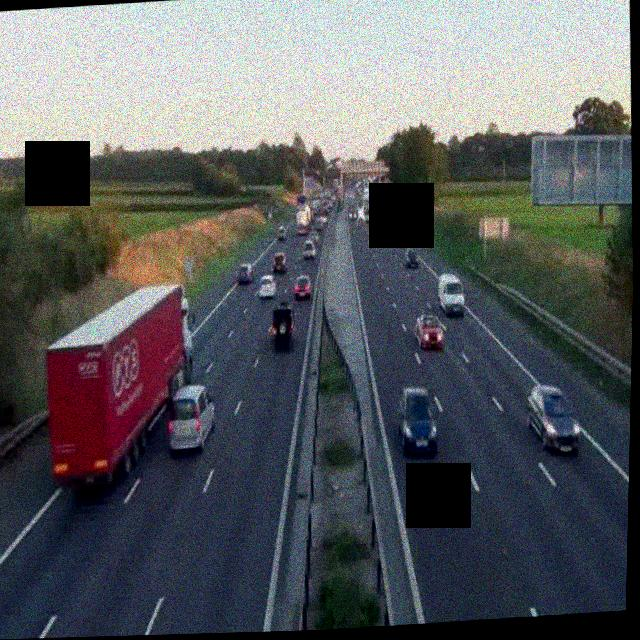car: (525, 381, 582, 455), (166, 382, 215, 452), (397, 385, 438, 455), (269, 295, 296, 350), (435, 272, 465, 315), (413, 311, 443, 351), (292, 272, 311, 299), (256, 275, 276, 298), (235, 261, 253, 286), (404, 245, 419, 268), (271, 249, 286, 272), (303, 240, 316, 259), (308, 228, 322, 244), (274, 225, 285, 239), (348, 206, 359, 220), (369, 221, 379, 235)
truck: (40, 282, 199, 492), (295, 201, 311, 229)
